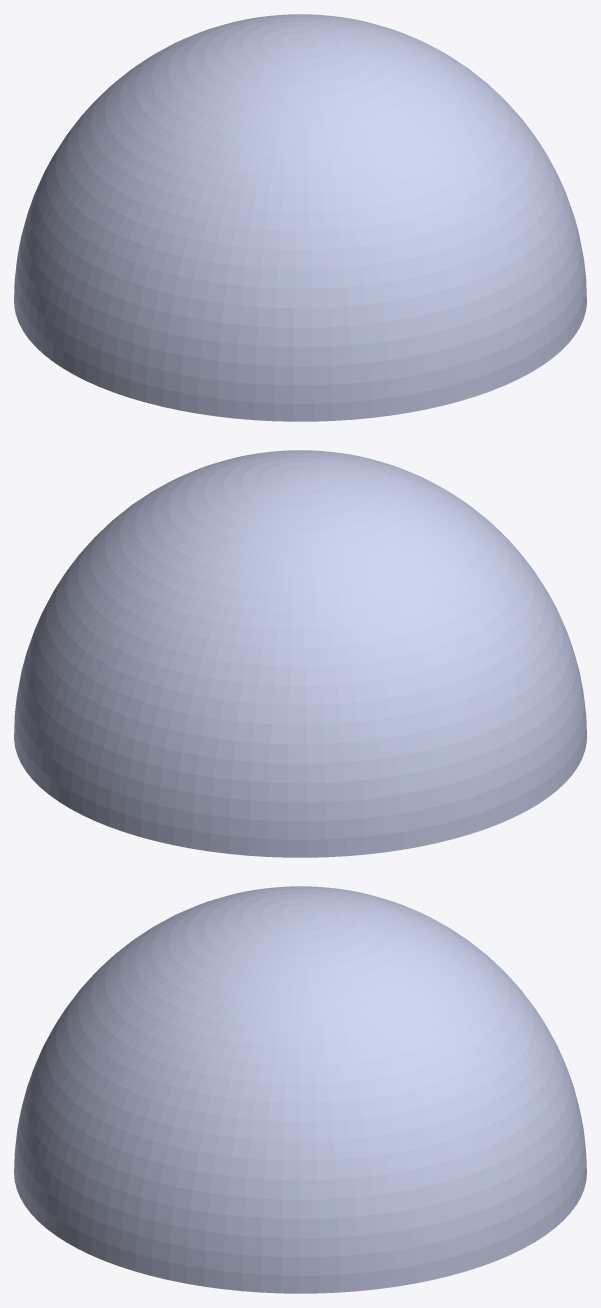
The model's file is LidarV1.1.dae.
3 renders of one model, top to bottom at view 1: azimuth 30°, elevation 25°; view 2: azimuth 150°, elevation 25°; view 3: azimuth 270°, elevation 25°, orthographic.
Visible parts, largest first — view 1: ID2; view 2: ID2; view 3: ID2.
Boxes of the visible parts, bbox=[...] form: ID2: bbox=[14, 14, 586, 421]; ID2: bbox=[14, 450, 586, 857]; ID2: bbox=[14, 886, 586, 1293].
Bounding box in the file's own units: 0.07 × 0.07 × 0.035.
